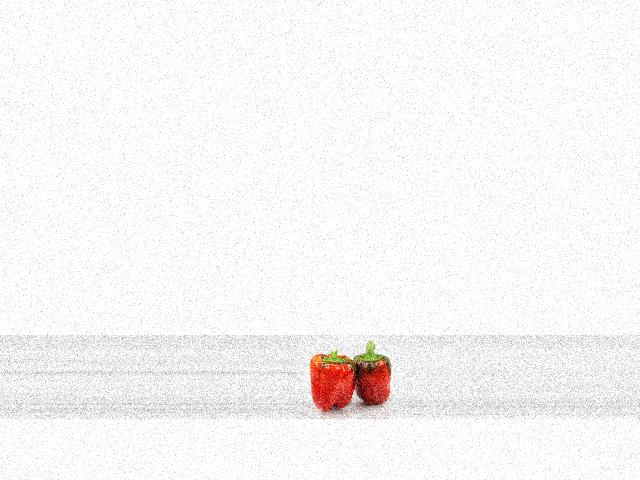bell_pepper: (302, 345, 354, 411)
